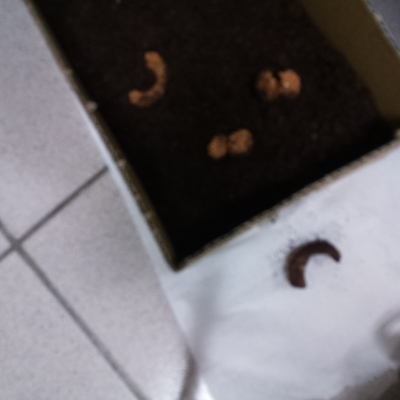eggs: (121, 48, 174, 112), (202, 126, 259, 163), (251, 66, 306, 103)
